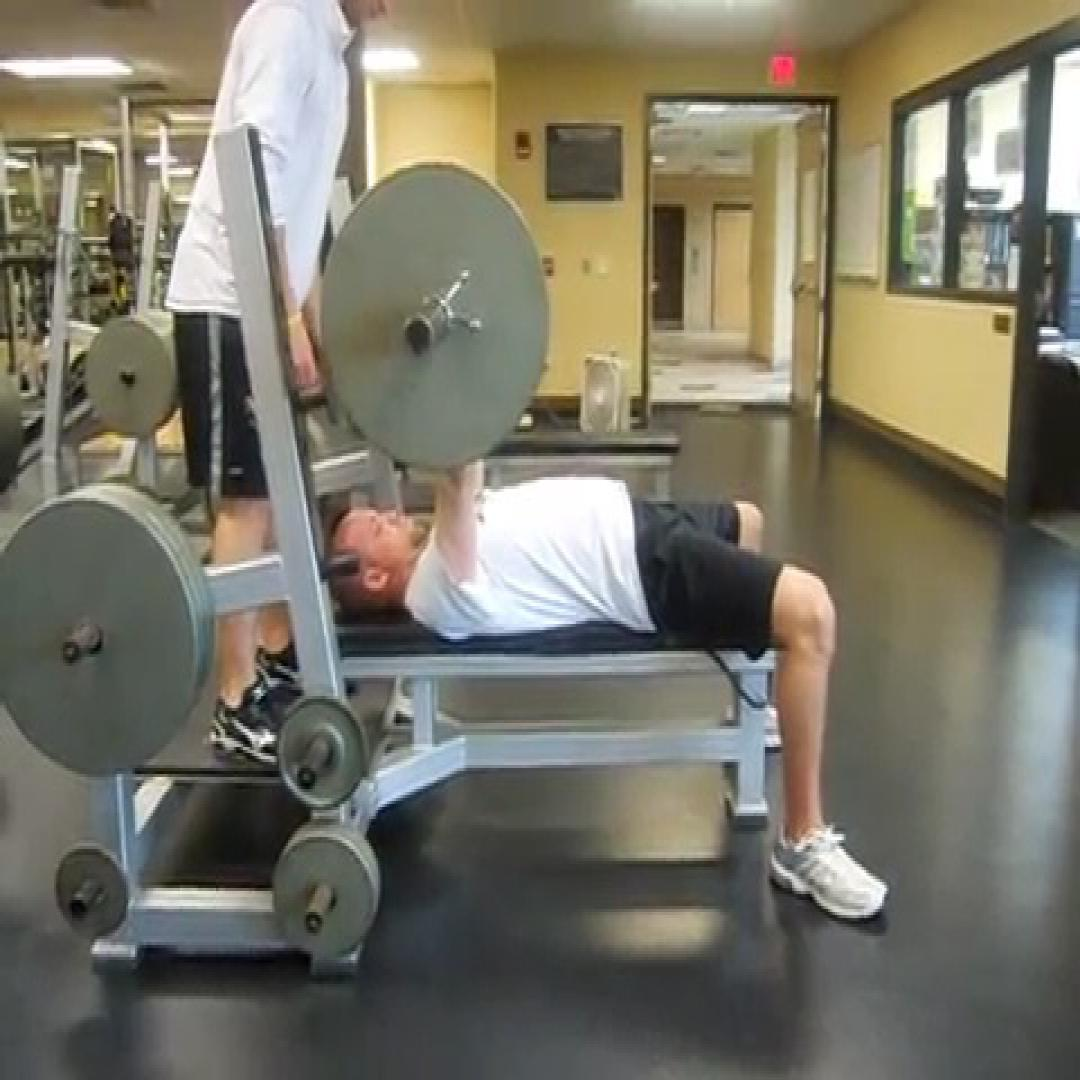Bar: (400, 312, 436, 360)
Barbell: (319, 161, 549, 472)
